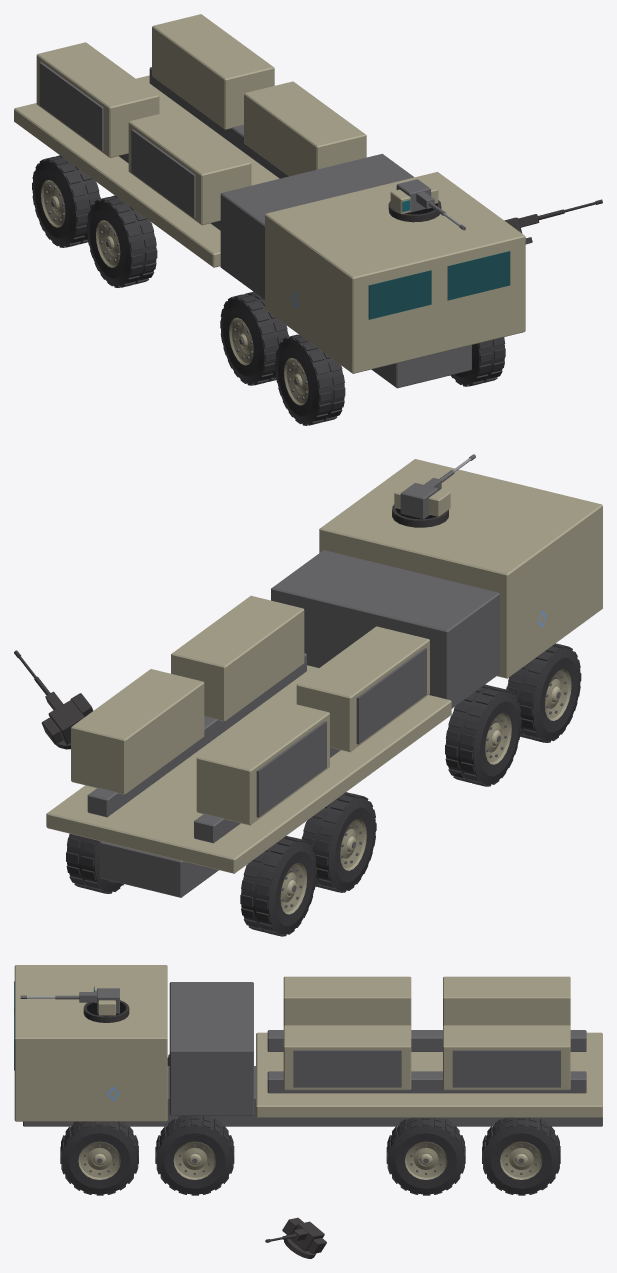
Rendered from mineLayer__m139_volcano.glb.
3 renders of one model, top to bottom at view 1: azimuth 30°, elevation 25°; view 2: azimuth 150°, elevation 25°; view 3: azimuth 270°, elevation 25°, orthographic. The views are drawn at different scales.
Parts seen in each view (by area): view 1: Hull_Mesh, Wheel_L1_Mesh, Wheel_L3_Mesh, Wheel_L0_Mesh, Wheel_L2_Mesh, Wheel_R3_Mesh, Wreck, Turret_Mesh; view 2: Hull_Mesh, Wheel_L2_Mesh, Wheel_L0_Mesh, Wheel_L1_Mesh, Wheel_L3_Mesh, Wreck, Wheel_R0_Mesh, Turret_Mesh; view 3: Hull_Mesh, Wheel_R2_Mesh, Wheel_R1_Mesh, Wheel_R0_Mesh, Wheel_R3_Mesh, Wreck, Turret_Mesh, Gun_Mesh.
Part boxes in pixels (box(x1,y1,x2,y2)): Hull_Mesh: box(14, 14, 525, 388); Wheel_L1_Mesh: box(87, 195, 157, 287); Wheel_L3_Mesh: box(275, 334, 345, 425); Wheel_L0_Mesh: box(32, 155, 100, 247); Wheel_L2_Mesh: box(220, 291, 288, 385); Wheel_R3_Mesh: box(450, 337, 505, 386); Wreck: box(45, 199, 602, 424); Turret_Mesh: box(390, 179, 438, 214); Hull_Mesh: box(46, 459, 602, 897); Wheel_L2_Mesh: box(445, 684, 521, 786); Wheel_L0_Mesh: box(240, 836, 316, 936); Wheel_L1_Mesh: box(301, 792, 376, 892); Wheel_L3_Mesh: box(506, 643, 581, 742); Wreck: box(14, 504, 547, 936); Wheel_R0_Mesh: box(66, 834, 123, 893); Turret_Mesh: box(394, 483, 450, 518); Hull_Mesh: box(14, 965, 602, 1126); Wheel_R2_Mesh: box(155, 1115, 234, 1195); Wheel_R1_Mesh: box(386, 1117, 465, 1195); Wheel_R0_Mesh: box(482, 1117, 560, 1195); Wheel_R3_Mesh: box(60, 1121, 138, 1195); Wreck: box(83, 1000, 524, 1258); Turret_Mesh: box(93, 985, 119, 1015); Gun_Mesh: box(20, 992, 96, 1002).
Size of what is drawn, in the model's own units: 5.95 by 2.86 by 8.66.
